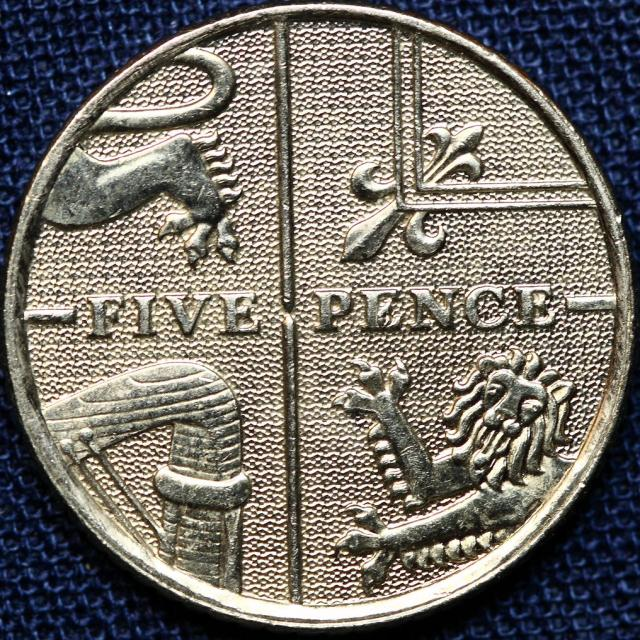Coin: (2, 0, 639, 633)
